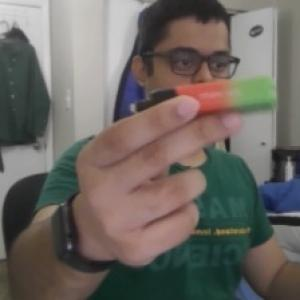Swift-E-Ciggirate: (125, 70, 283, 120)
